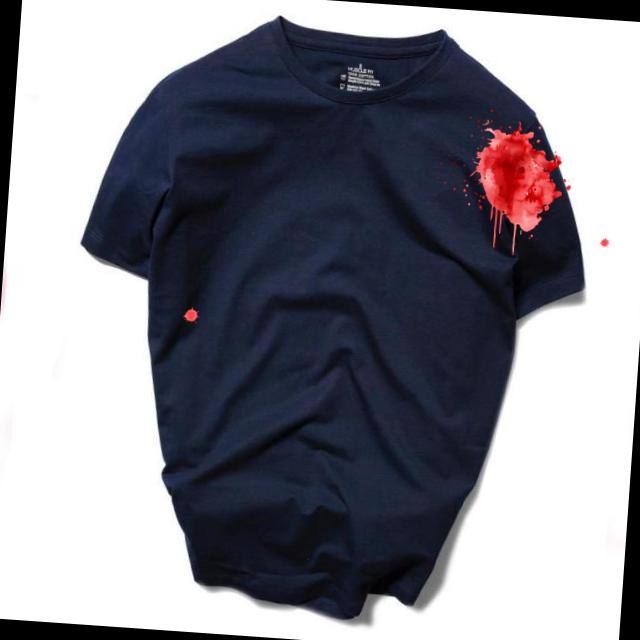stain: (445, 117, 572, 258), (181, 302, 203, 330)
